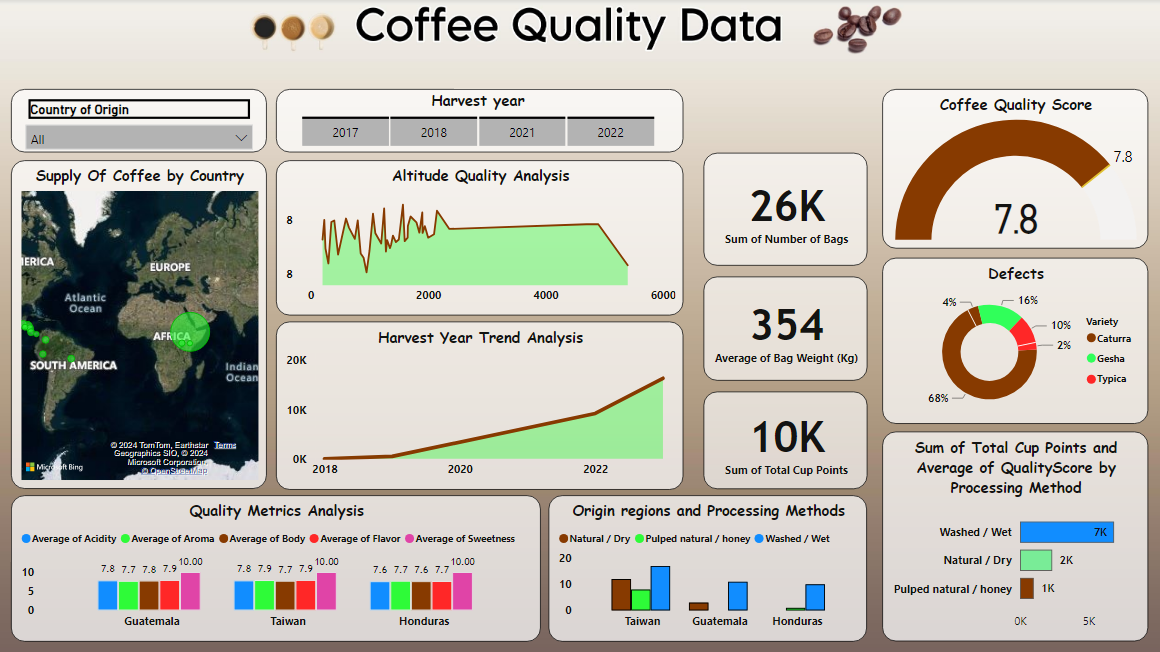

What the dashboard file says about the page in this screenshot:
{"tool":"powerbi","page":{"name":"Page 1","canvas":[1280,720],"ordinal":0},"visuals":[{"type":"map","title":"Supply Of Coffee by Country","fields":{"Category":["df_arabica_clean.Country of Origin"],"Size":["Sum(df_arabica_clean.Bag Weight)"]},"box":[16.9,177.3,281.1,360.7],"z":0},{"type":"clusteredColumnChart","title":"Origin regions and Processing Methods","fields":{"Category":["df_arabica_clean.Country of Origin"],"Y":["CountNonNull(df_arabica_clean.Processing Method)"],"Series":["df_arabica_clean.Processing Method"]},"box":[606.5,544.8,349.9,160.5],"z":1000},{"type":"lineChart","title":"Harvest Year Trend Analysis","fields":{"Category":["df_arabica_clean.Harvest Year.1","df_arabica_clean.Harvest Year.2"],"Y":["Sum(df_arabica_clean.Number of Bags)"]},"box":[307.6,353.5,447.6,184.6],"z":2000},{"type":"clusteredColumnChart","title":"Quality Metrics Analysis","fields":{"Category":["df_arabica_clean.Country of Origin"],"Y":["Avg(df_arabica_clean.Acidity)","Avg(df_arabica_clean.Aroma)","Avg(df_arabica_clean.Body)","Avg(df_arabica_clean.Flavor)","Avg(df_arabica_clean.Sweetness)"]},"box":[16.5,544.8,581.8,160.5],"z":3000},{"type":"lineChart","title":"Altitude  Quality Analysis ","fields":{"Category":["df_arabica_clean.Altitude"],"Y":["Avg(df_arabica_clean.QualityScore)"]},"box":[307.6,177.3,447.6,170.1],"z":4000},{"type":"card","fields":{"Values":["Sum(df_arabica_clean.Number of Bags)"]},"box":[776.9,168.9,179.8,124.3],"z":5000},{"type":"card","fields":{"Values":["Sum(df_arabica_clean.Total Cup Points)"]},"box":[776.9,430.7,179.8,107.4],"z":6000},{"type":"card","fields":{"Values":["Avg(df_arabica_clean.Bag Weight (Kg))"]},"box":[776.9,304,179.8,114.6],"z":7000},{"type":"slicer","fields":{"Values":["df_arabica_clean.Country of Origin"]},"box":[16.9,98.9,281.1,70],"z":8000},{"type":"donutChart","title":"Defects ","fields":{"Category":["df_arabica_clean.Variety"],"Y":["Sum(df_arabica_clean.Category Two Defects)","Sum(df_arabica_clean.Category One Defects)"]},"box":[972.4,283.5,292,182.2],"z":9000},{"type":"clusteredBarChart","fields":{"Category":["df_arabica_clean.Processing Method"],"Y":["Sum(df_arabica_clean.Total Cup Points)"]},"box":[972.4,475.3,292,230.4],"z":10000},{"type":"gauge","title":"Coffee Quality Score","fields":{"Y":["Avg(df_arabica_clean.QualityScore)"],"TargetValue":["Avg(df_arabica_clean.QualityScore)"]},"box":[972.4,98.9,292,174.9],"z":11000},{"type":"slicer","title":"Harvest year","fields":{"Values":["df_arabica_clean.Harvest Year.1"]},"box":[307.6,98.9,447.6,70],"z":12000}]}

Visuals, with their boxes in screenshot pixels (x1, y1, x2, y2), scaled from the page's 1280x720 canvas onto the 1160x652 screenshot:
"Supply Of Coffee by Country" map: BBox(15, 161, 270, 487)
"Origin regions and Processing Methods" clusteredColumnChart: BBox(550, 493, 867, 639)
"Harvest Year Trend Analysis" lineChart: BBox(279, 320, 684, 487)
"Quality Metrics Analysis" clusteredColumnChart: BBox(15, 493, 542, 639)
"Altitude  Quality Analysis " lineChart: BBox(279, 161, 684, 315)
card - Sum(df_arabica_clean.Number of Bags): BBox(704, 153, 867, 266)
card - Sum(df_arabica_clean.Total Cup Points): BBox(704, 390, 867, 487)
card - Avg(df_arabica_clean.Bag Weight (Kg)): BBox(704, 275, 867, 379)
slicer - df_arabica_clean.Country of Origin: BBox(15, 90, 270, 153)
"Defects " donutChart: BBox(881, 257, 1146, 422)
clusteredBarChart - df_arabica_clean.Processing Method x Sum(df_arabica_clean.Total Cup Points): BBox(881, 430, 1146, 639)
"Coffee Quality Score" gauge: BBox(881, 90, 1146, 248)
"Harvest year" slicer: BBox(279, 90, 684, 153)
